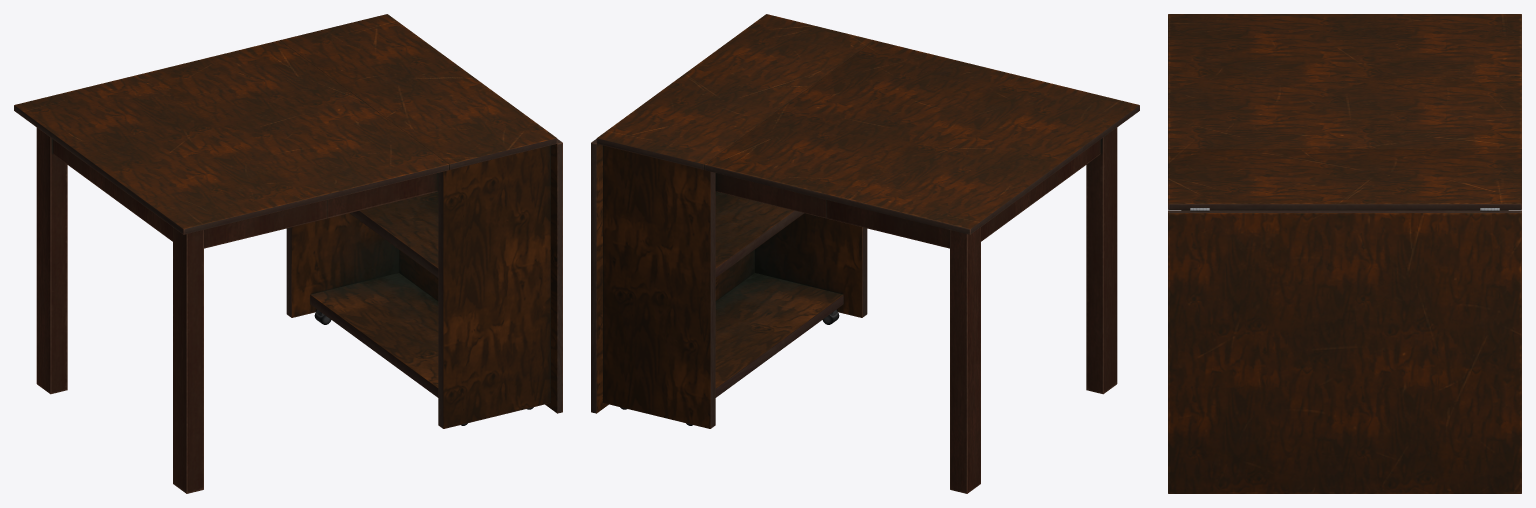
The model's file is wooden_table_soviet.glb.
3 renders of one model, left to right at view 1: azimuth 30°, elevation 25°; view 2: azimuth 150°, elevation 25°; view 3: azimuth 270°, elevation 25°, orthographic. The views are drawn at different scales.
Visible parts, largest first — view 1: Table_soviet_0; view 2: Table_soviet_0; view 3: Table_soviet_0.
Boxes of the visible parts, bbox=[...] form: Table_soviet_0: bbox=[14, 14, 562, 493]; Table_soviet_0: bbox=[591, 14, 1139, 493]; Table_soviet_0: bbox=[1168, 14, 1521, 493].
Size of the model in its own units: 1.06 by 0.7397 by 0.82.
Materials: 1 (1 with a texture image).
